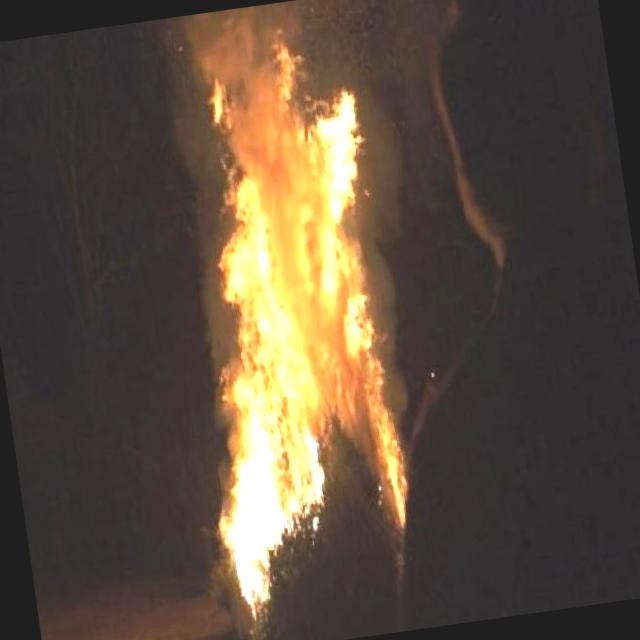fire: (105, 0, 460, 601)
